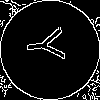Y: (25, 25, 75, 65)
